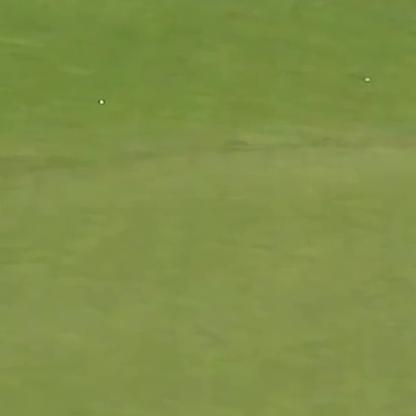golfball: (98, 98, 102, 102)
